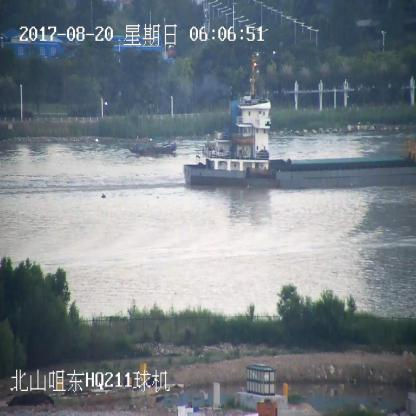Bulk Carrier: (182, 81, 415, 187)
